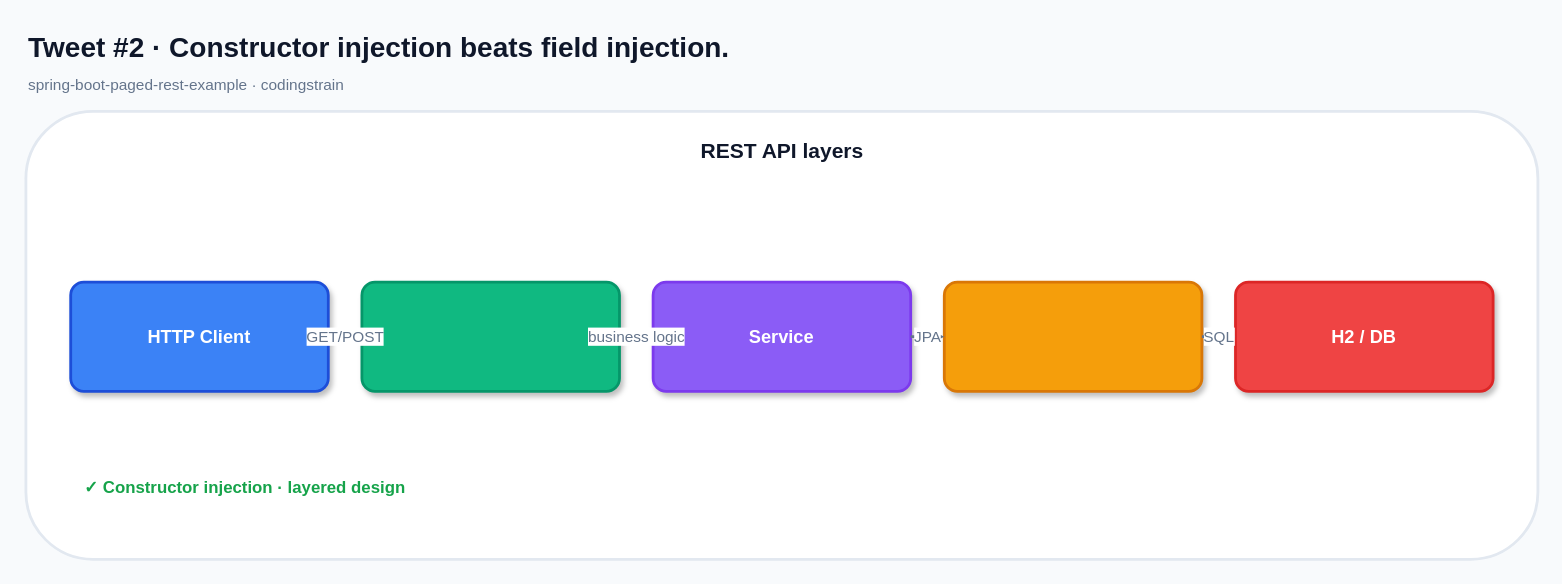
Image size: 1562x584. Some labels were removed from this diagram. Here are the shapes that lost their labels. From the top down, the centre of each, then its label:
(x=491, y=338): @RestController
(x=1074, y=338): Repository
